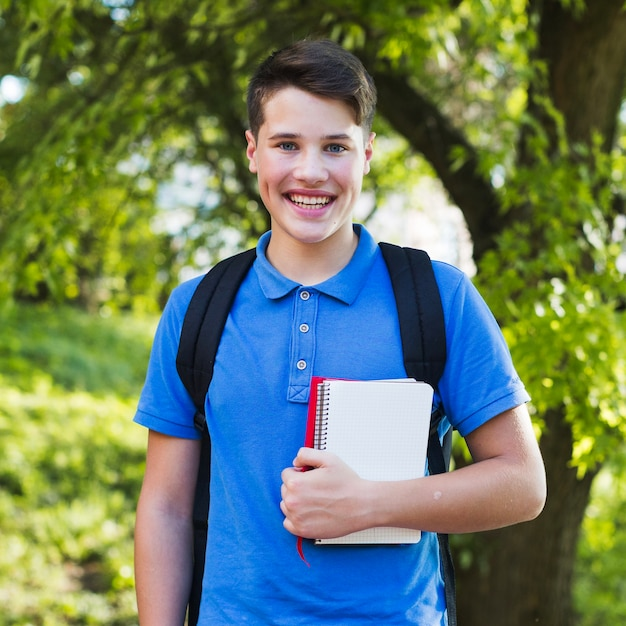teen: (244, 51, 384, 257)
